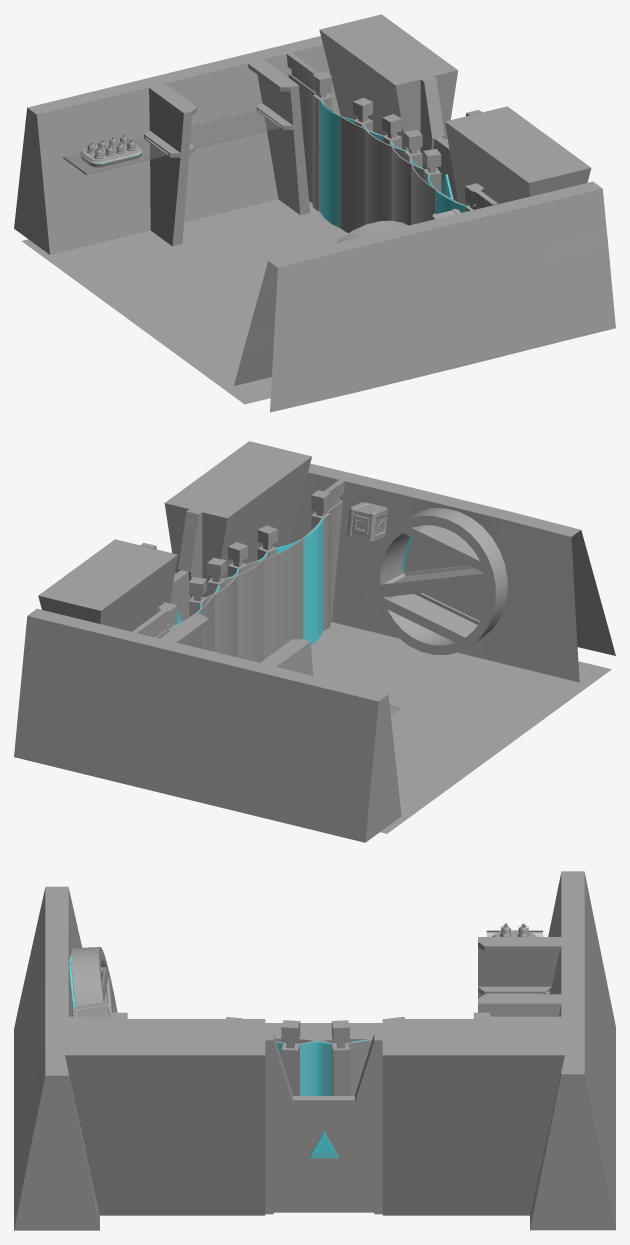
Rendered from L1_RM6_Models with UVs.fbx.
The picture shows the model from 3 angles, top to bottom: view 1: azimuth 30°, elevation 25°; view 2: azimuth 150°, elevation 25°; view 3: azimuth 270°, elevation 25°; orthographic projection. The views are drawn at different scales.
Parts seen in each view (by area): view 1: L1_RM6_wall_right, L1_RM6_wall_left, L1_RM6_ground, lab_door_room4_left_wall, lab_door_room4_right_wall, L1_RM6_shelf2, L1_RM6_energy_wall_variaties_3_energy, L1_RM6_shelf3, L1_RM6_energy_wall_left, L1_RM6_shelf1, L1_RM6_energy_1, L1_RM6_energy_wall_variaties_2_energy (+9 smaller); view 2: L1_RM6_wall_left, L1_RM6_wall_right, L1_RM6_ground, L1_RM6_wall_right_deco1, lab_door_room4_right_wall, lab_door_room4_left_wall, L1_RM6_energy_wall_variaties_1_energy, L1_RM6energy_wall_variaties_4_energy, L1_RM6_energy_wall_right, L1_RM6energy_5, L1_RM6_shelf2, L1_RM6_energy_wall_variaties_2_energy (+8 smaller); view 3: lab_door_room4_right_wall, lab_door_room4_left_wall, L1_RM6_wall_left, L1_RM6_wall_right, L1_RM6_shelf2, L1_RM6_door_right, L1_RM6_door_left, L1_RM6_wall_right_deco1, L1_RM6_energy_3, L1_RM6_energy_column3, L1_RM6_ground, L1_RM6_energy_column5 (+3 smaller).
Boxes of the visible parts, x1,y1,x2,y2 form: L1_RM6_wall_right: (234, 181, 615, 412); L1_RM6_wall_left: (14, 36, 340, 254); L1_RM6_ground: (22, 199, 348, 404); lab_door_room4_left_wall: (319, 14, 458, 169); lab_door_room4_right_wall: (445, 106, 591, 205); L1_RM6_shelf2: (63, 59, 302, 175); L1_RM6_energy_wall_variaties_3_energy: (320, 99, 383, 232); L1_RM6_shelf3: (150, 143, 189, 246); L1_RM6_energy_wall_left: (286, 52, 331, 211); L1_RM6_shelf1: (264, 117, 310, 215); L1_RM6_energy_1: (320, 100, 354, 228); L1_RM6_energy_wall_variaties_2_energy: (362, 124, 404, 224); L1_RM6_wall_left: (14, 608, 401, 842); L1_RM6_wall_right: (290, 463, 615, 682); L1_RM6_ground: (311, 622, 611, 833); L1_RM6_wall_right_deco1: (372, 508, 507, 654); lab_door_room4_right_wall: (164, 441, 311, 597); lab_door_room4_left_wall: (38, 539, 177, 631); L1_RM6_energy_wall_variaties_1_energy: (246, 518, 322, 659); L1_RM6energy_wall_variaties_4_energy: (224, 552, 268, 662); L1_RM6_energy_wall_right: (311, 479, 344, 630); L1_RM6energy_5: (276, 518, 323, 645); L1_RM6_shelf2: (160, 613, 401, 716); L1_RM6_energy_wall_variaties_2_energy: (205, 569, 239, 657); lab_door_room4_right_wall: (65, 1019, 292, 1215); lab_door_room4_left_wall: (355, 1019, 564, 1215); L1_RM6_wall_left: (530, 871, 615, 1230); L1_RM6_wall_right: (14, 886, 99, 1230); L1_RM6_shelf2: (478, 930, 561, 1016); L1_RM6_door_right: (274, 1096, 323, 1212); L1_RM6_door_left: (324, 1096, 373, 1212); L1_RM6_wall_right_deco1: (70, 947, 117, 1016); L1_RM6_energy_3: (300, 1041, 332, 1152); L1_RM6_energy_column3: (331, 1020, 349, 1152); L1_RM6_ground: (265, 1023, 382, 1040); L1_RM6_energy_column5: (281, 1020, 300, 1095).
Size of the model in its own units: 2856 by 1122 by 3500.
